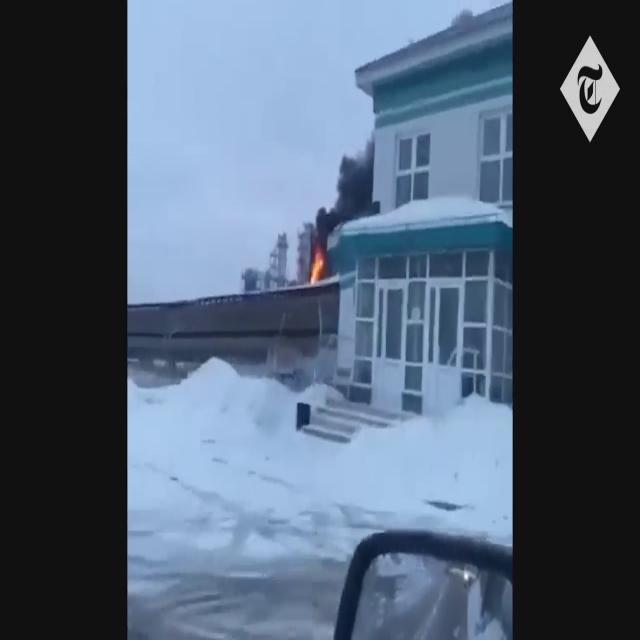Fire: (307, 240, 327, 286)
Smoke: (316, 125, 383, 252)
